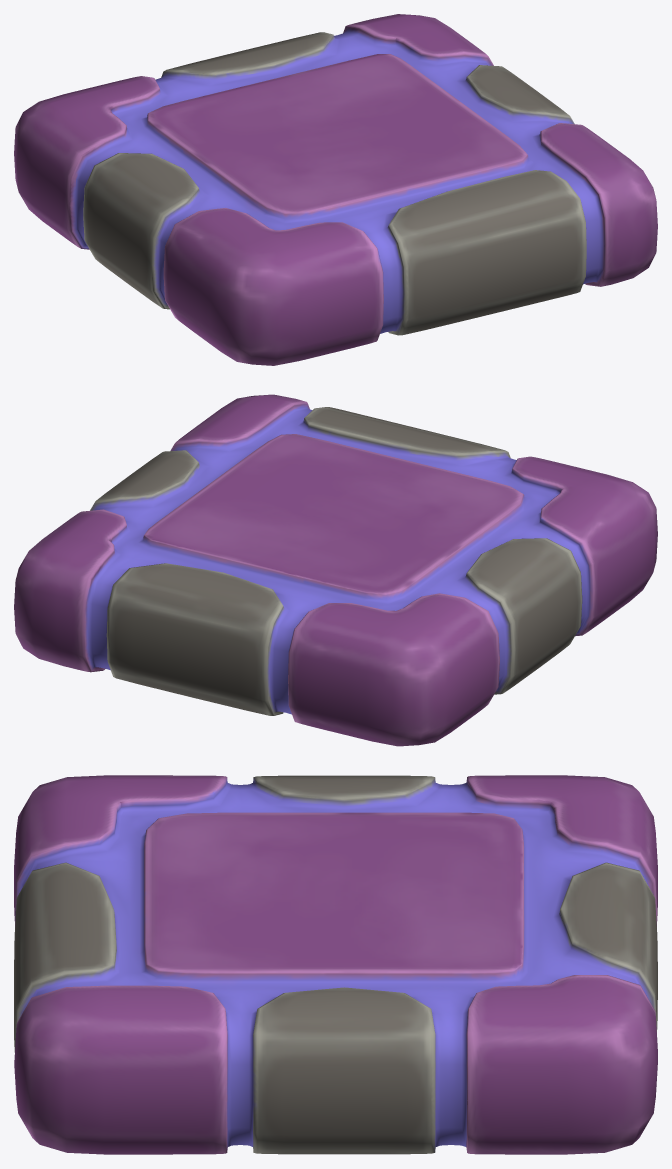
Rendered from arena block 6.fbx.
The picture shows the model from 3 angles, top to bottom: view 1: azimuth 30°, elevation 25°; view 2: azimuth 150°, elevation 25°; view 3: azimuth 270°, elevation 25°; orthographic projection. The views are drawn at different scales.
Visible parts, largest first — view 1: arena block 6 lp; view 2: arena block 6 lp; view 3: arena block 6 lp.
Part boxes in pixels (<box>): arena block 6 lp: <box>14,14,657,365</box>; arena block 6 lp: <box>14,394,657,746</box>; arena block 6 lp: <box>14,775,657,1154</box>.
Bounding box in the file's own units: 200 × 50 × 200.
